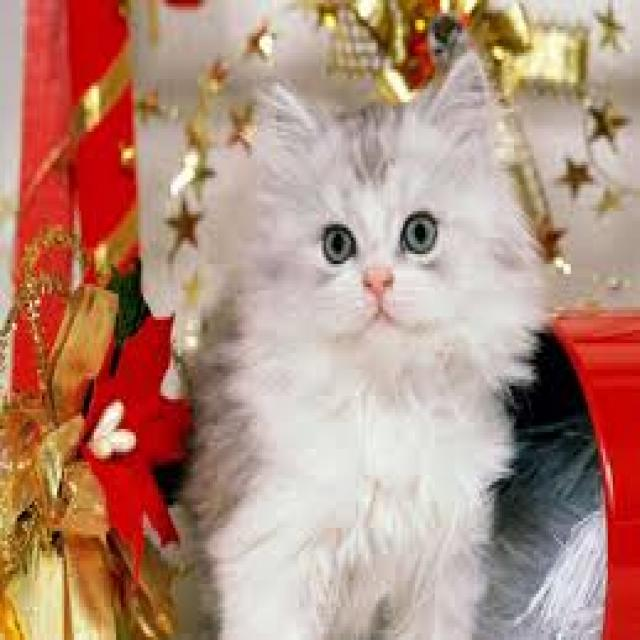Cat: (212, 50, 546, 638)
